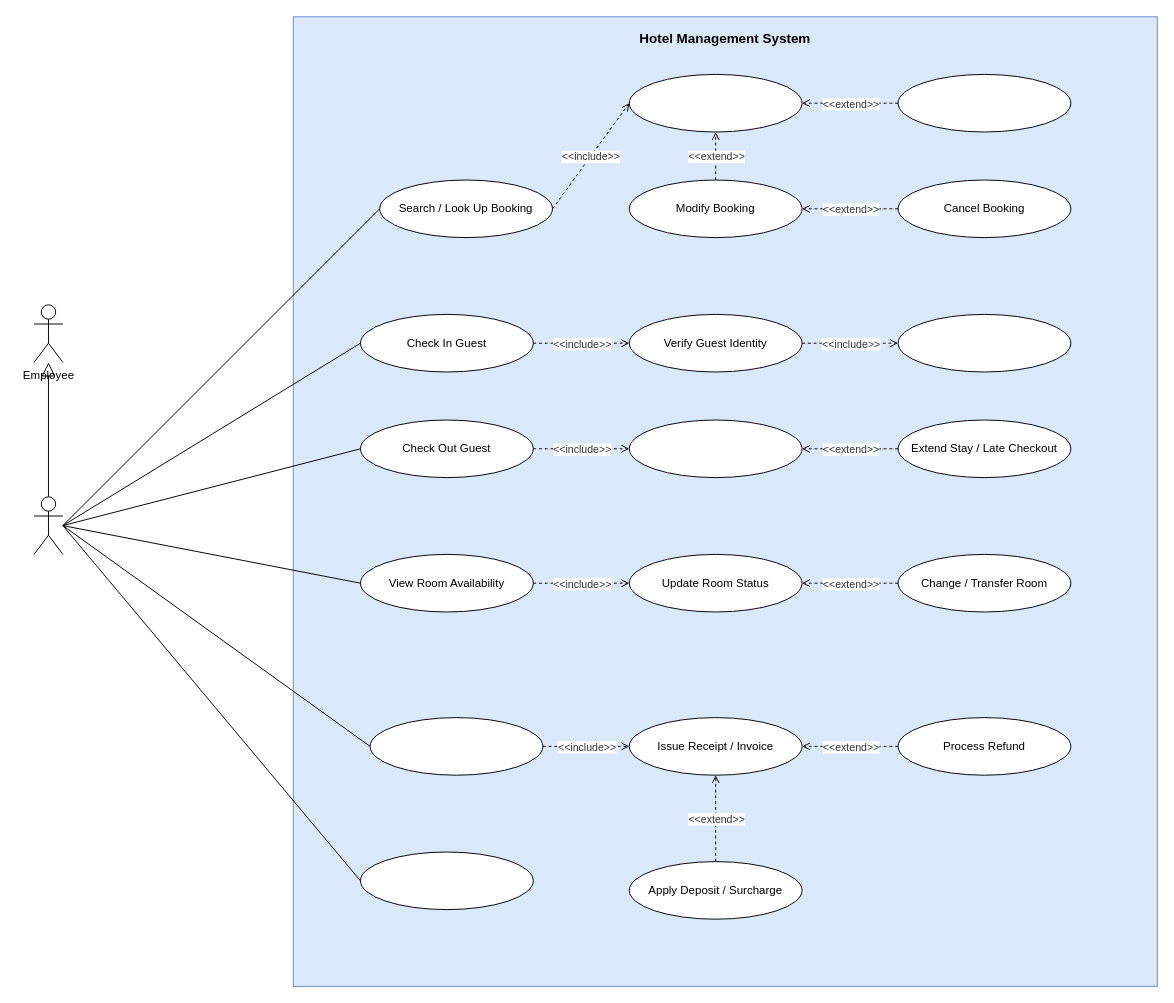
This 1174x1003 diagram has some shape labels left out. The shapes that lost their labels are listed below. From the top down, each one's box as (x1, y1, x2, y2) in pixels, then its label:
(628, 73, 802, 132): View Booking Details
(897, 73, 1071, 132): Create Walk-in Booking
(897, 313, 1071, 372): Assign Room
(628, 419, 802, 478): Generate Final Invoice
(33, 496, 63, 554): Receptionist
(369, 717, 543, 775): Process Payment
(360, 851, 533, 910): Register Add-on Service for Guest
